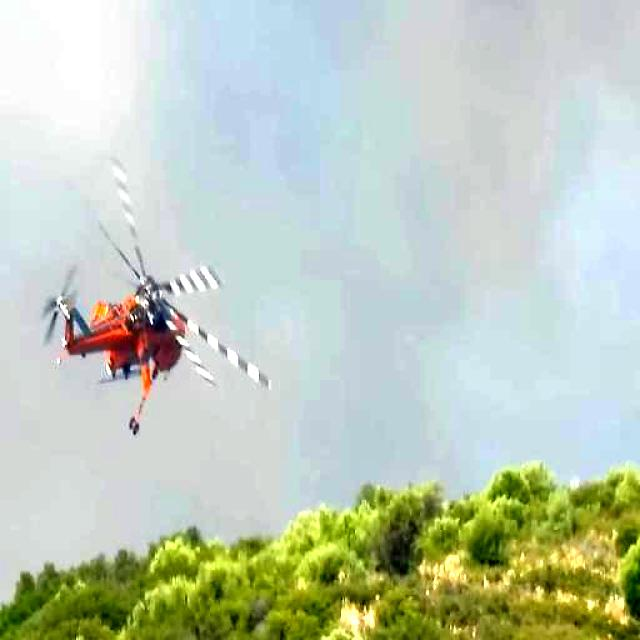drone: (22, 164, 294, 464)
